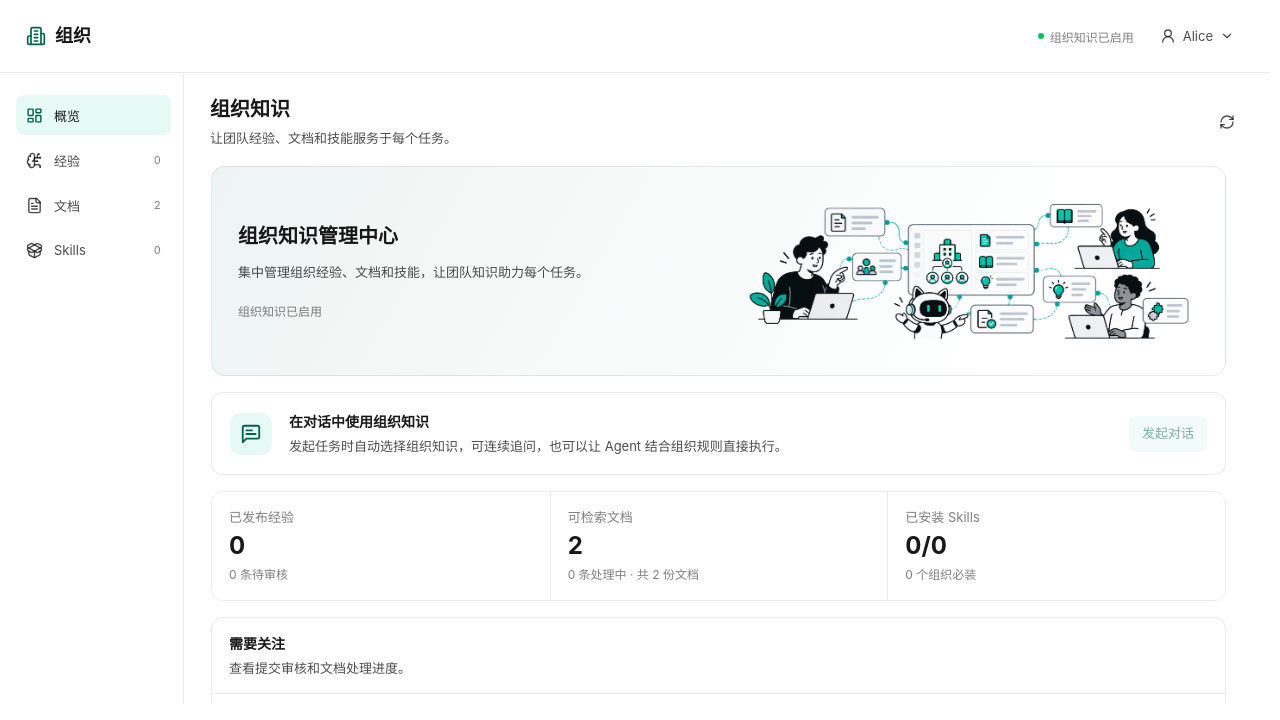
OrganizationMemoryPanel › 刷新失败保留已加载内容，明确提示资料未更新
The image size is (1280, 720).
Expected: the element named "组织知识概况" is shown, [211, 491, 1226, 601]
Click the button named "刷新": (1227, 122) [1210, 104, 1244, 140]
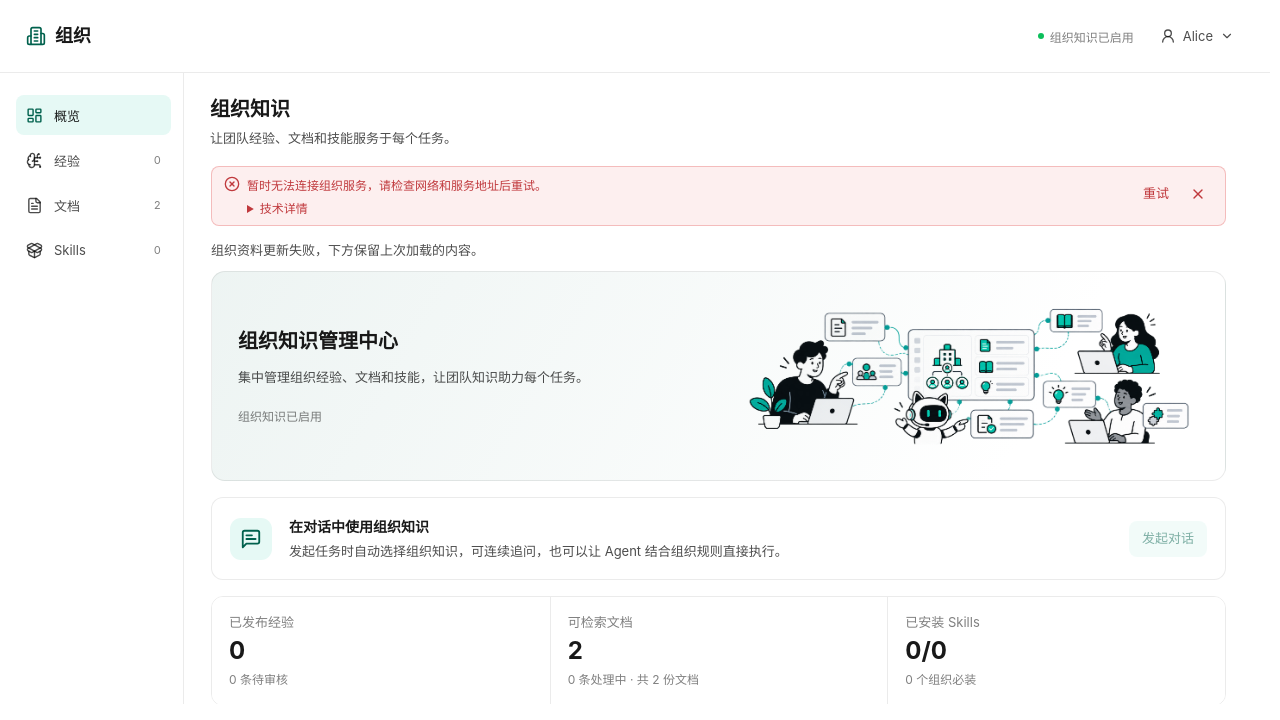
Expected: the element named "组织知识概况" shows "可检索文档", [550, 597, 887, 704]
Expected: the message "暂时无法连接组织服务，请检查网络和服务地址后重试。 技术详情 重试" is shown, [211, 166, 1226, 226]
Expected: the text "组织资料更新失败，下方保留上次加载的内容。" is shown, [211, 242, 484, 258]
